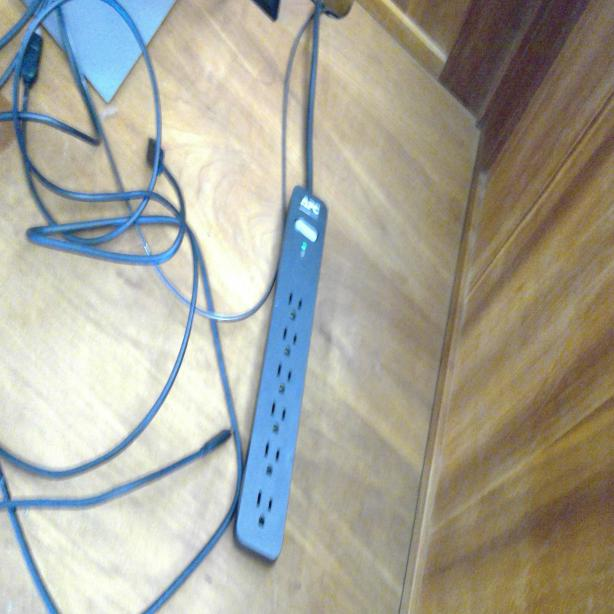typeb: (251, 486, 277, 536), (258, 438, 285, 478), (267, 399, 289, 438), (274, 360, 294, 401), (284, 286, 306, 320), (278, 324, 298, 360)
